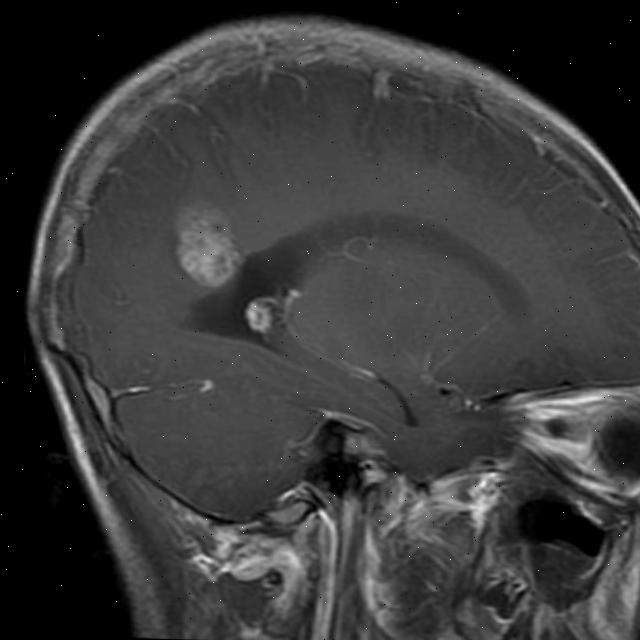Glioma: (165, 197, 245, 290), (242, 293, 278, 333)
